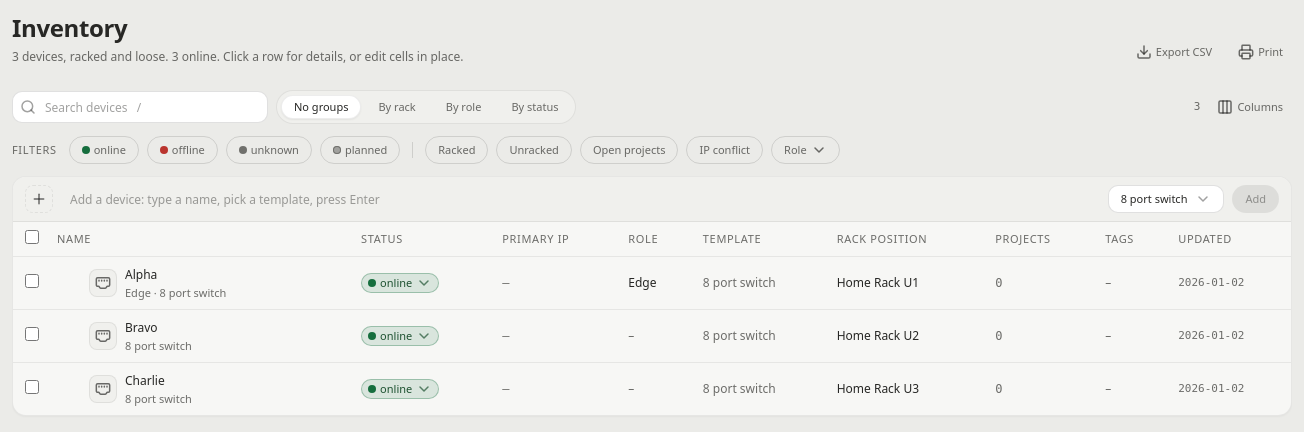
Scenario: Inventory inline editing › shows the edit at once, then rolls it back with an error toast when the API rejects it
The width and height of the screenshot is (1304, 432).
Later steps or results of the test are not shown.
Click the button with aria-label "Role of Alpha". click: {"x": 642, "y": 283}
box: [624,271,660,295]
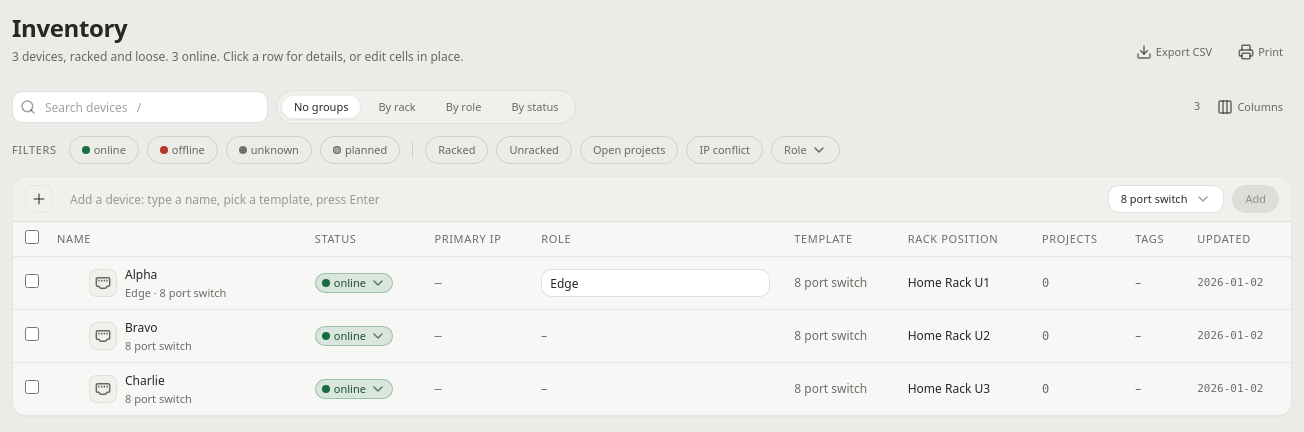
Replace the text in the field named "Role of Alpha" with "Broken". click: {"x": 656, "y": 283}
box: [541,269,770,297]
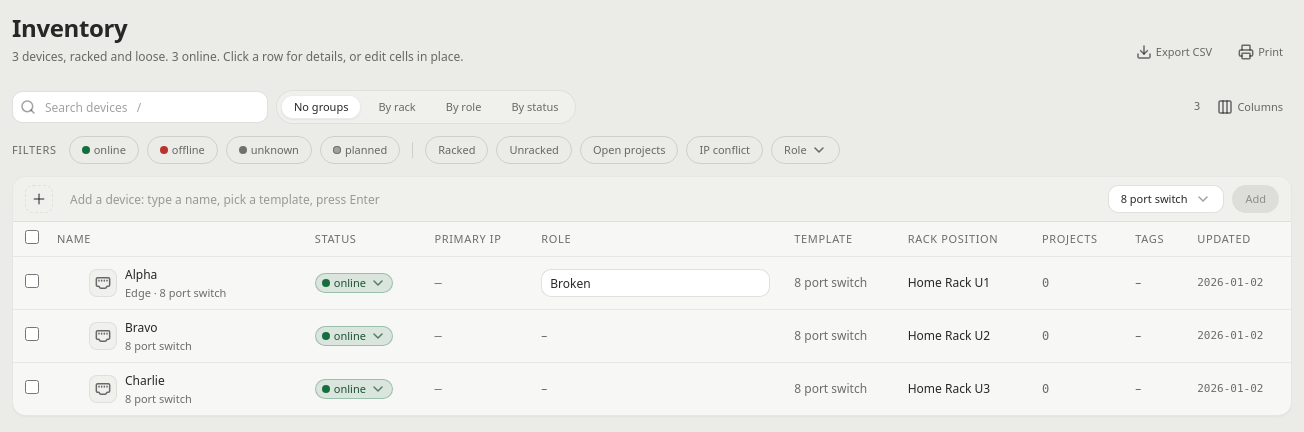
Press Enter in the field named "Role of Alpha", box [541,269,770,297]
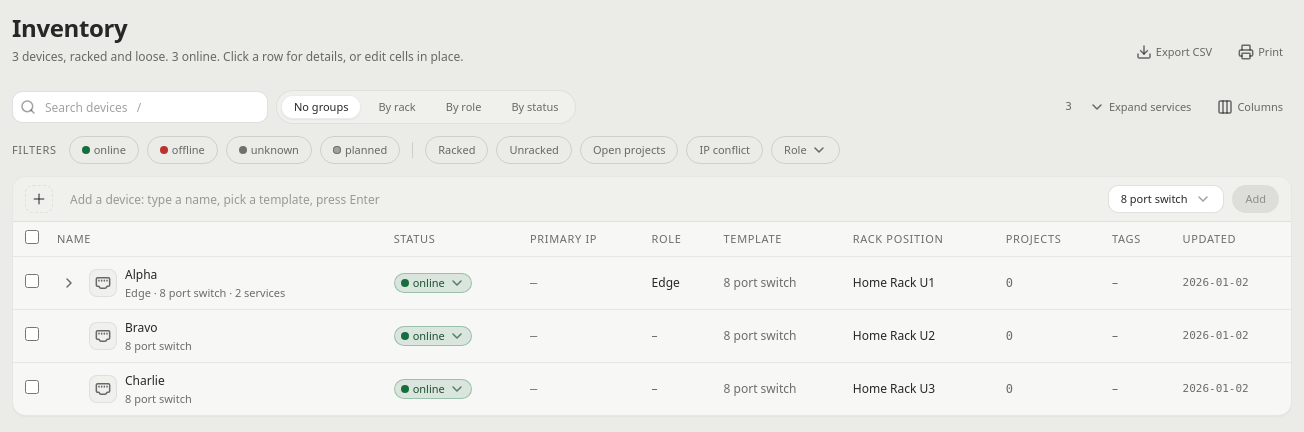
Result: the text "Edge" is shown at [652,274,680,292]
